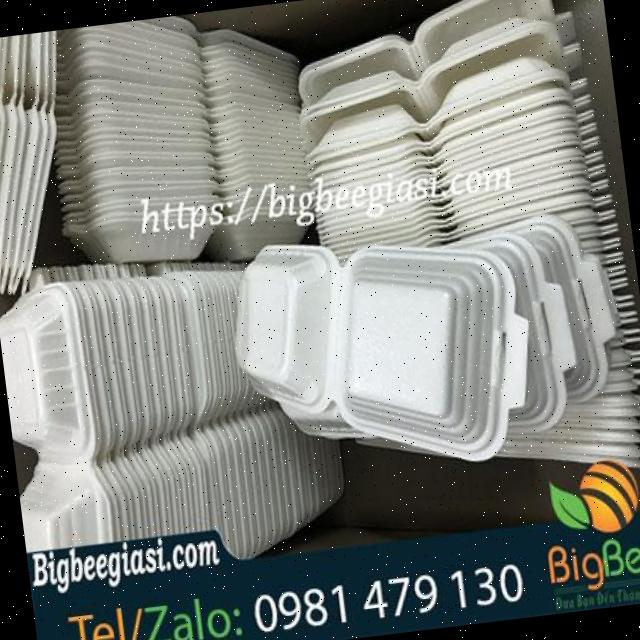styrofoam: (0, 0, 640, 581)
